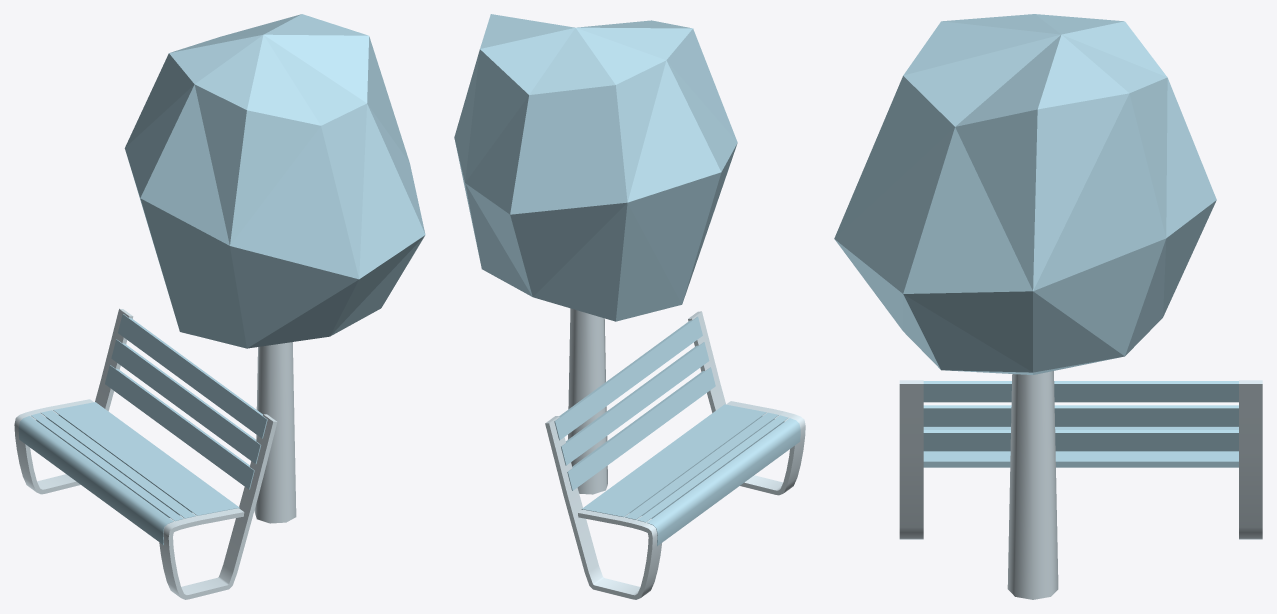
The model's file is sptp_bench_01.FBX.
3 renders of one model, left to right at view 1: azimuth 30°, elevation 25°; view 2: azimuth 150°, elevation 25°; view 3: azimuth 270°, elevation 25°, orthographic. The views are drawn at different scales.
Visible parts, largest first — view 1: sptp_bench_01; view 2: sptp_bench_01; view 3: sptp_bench_01.
Boxes of the visible parts, bbox=[...] form: sptp_bench_01: bbox=[14, 14, 425, 599]; sptp_bench_01: bbox=[454, 14, 805, 599]; sptp_bench_01: bbox=[834, 14, 1262, 599].
Bounding box in the file's own units: 3.84 × 5.9 × 4.06.
